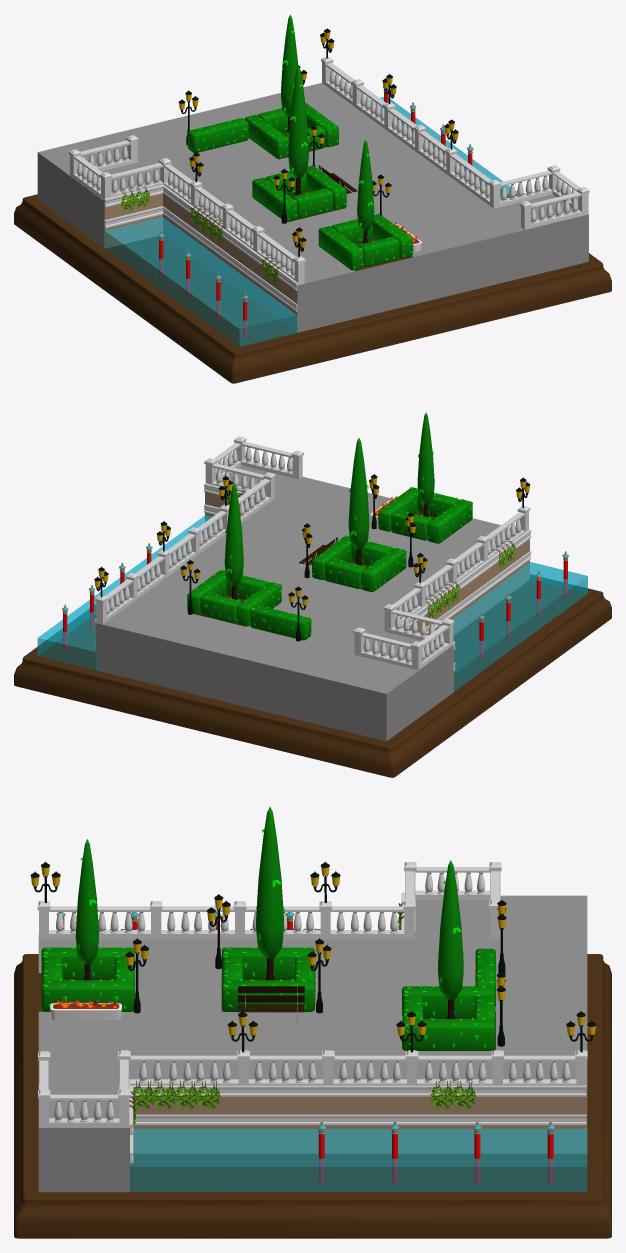
The model's file is level_4.FBX.
The picture shows the model from 3 angles, top to bottom: view 1: azimuth 30°, elevation 25°; view 2: azimuth 150°, elevation 25°; view 3: azimuth 270°, elevation 25°; orthographic projection. The views are drawn at different scales.
Visible parts, largest first — view 1: Object120; view 2: Object120; view 3: Object120.
Boxes of the visible parts, box(x1,y1,x2,y2) form: Object120: box(14, 14, 611, 383); Object120: box(14, 412, 611, 777); Object120: box(14, 807, 611, 1238).
Size of the model in its own units: 132 by 69.67 by 132.
